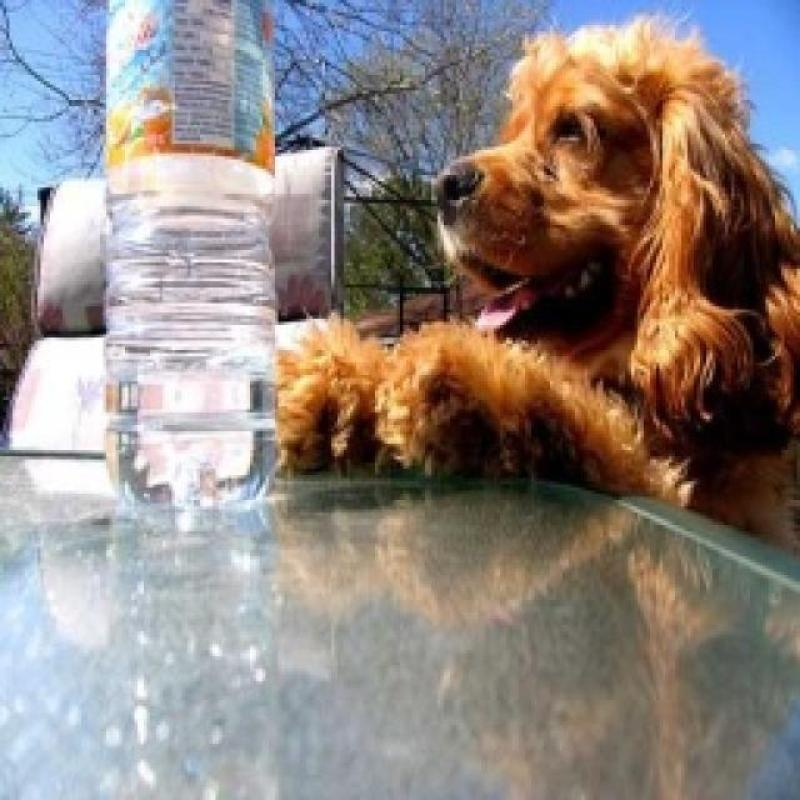botella: (102, 0, 282, 515)
